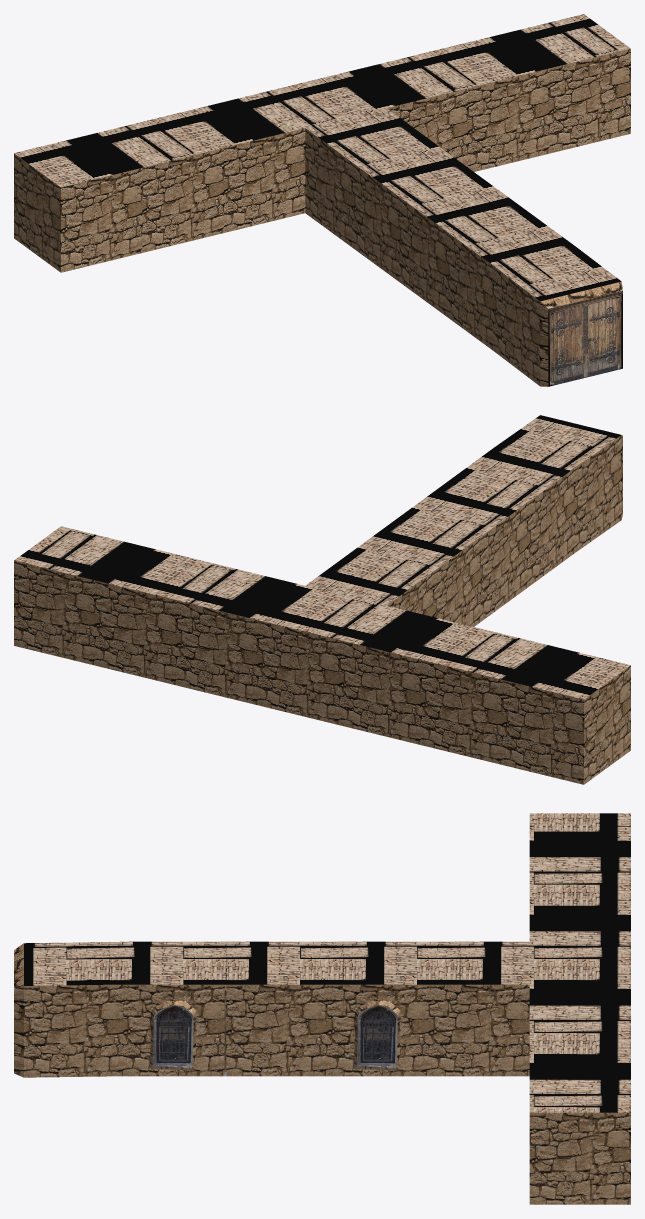
Rendered from castelo unity com luzes.fbx.
3 renders of one model, top to bottom at view 1: azimuth 30°, elevation 25°; view 2: azimuth 150°, elevation 25°; view 3: azimuth 270°, elevation 25°, orthographic. The views are drawn at different scales.
Parts seen in each view (by area): view 1: corridor, teto; view 2: corridor, teto; view 3: corridor, teto.
Boxes of the visible parts, x1,y1,x2,y2 form: corridor: [14, 48, 630, 386]; teto: [14, 14, 630, 301]; corridor: [14, 435, 630, 784]; teto: [14, 415, 630, 699]; corridor: [14, 943, 630, 1204]; teto: [24, 813, 630, 1112].
Size of the model in its own units: 1400 by 203 by 1219.
